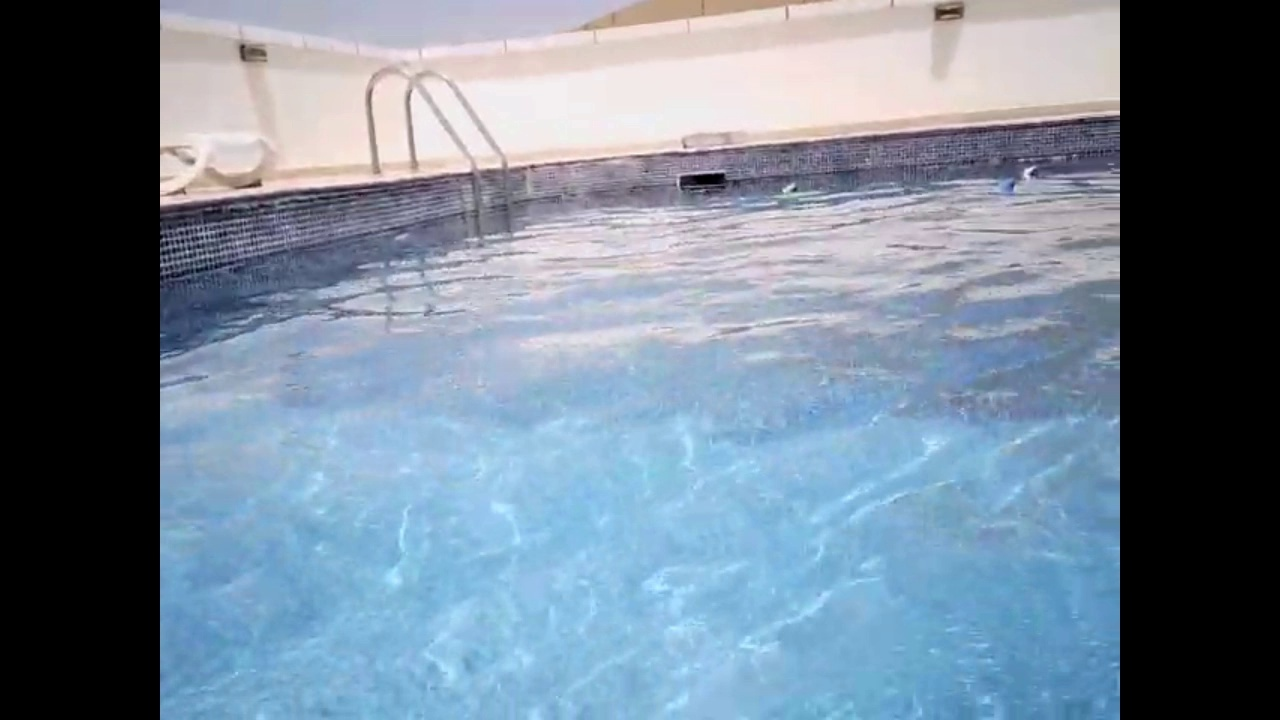debris: (1018, 159, 1047, 180), (991, 175, 1018, 196), (778, 179, 800, 199)
